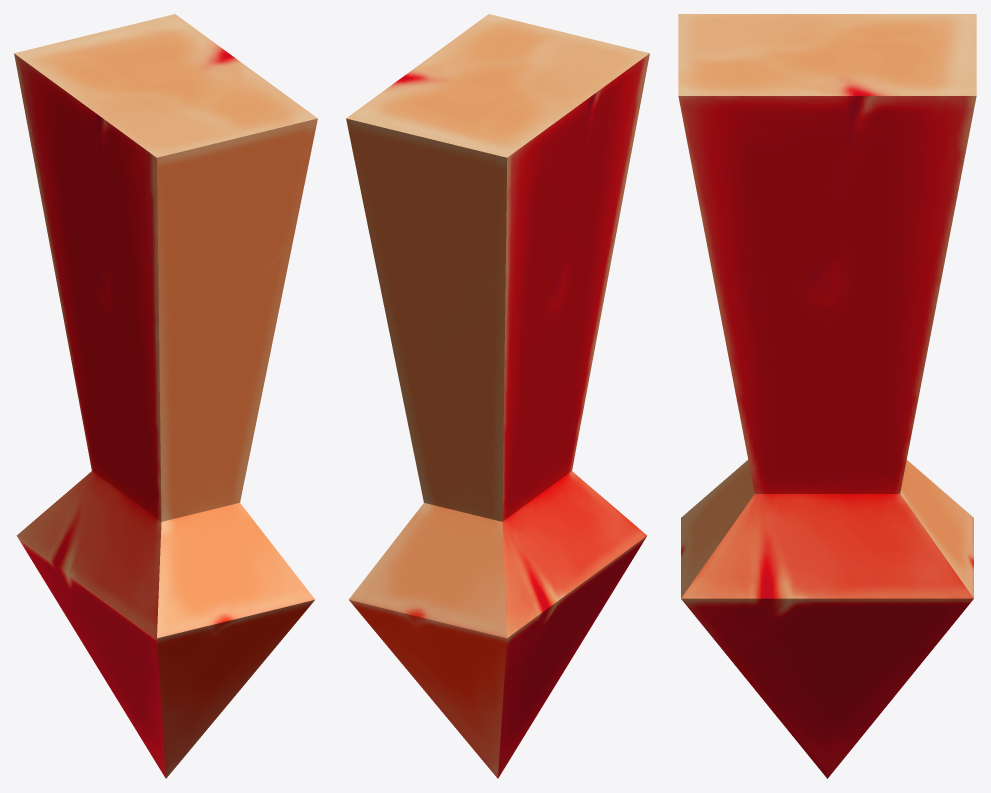
File: jian_tou_001_ty.FBX
3 views of the same model, side by side, from view 1: azimuth 30°, elevation 25°; view 2: azimuth 150°, elevation 25°; view 3: azimuth 270°, elevation 25° (orthographic). The views are drawn at different scales.
Parts seen in each view (by area): view 1: jiantou; view 2: jiantou; view 3: jiantou.
Boxes of the visible parts, x1,y1,x2,y2 form: jiantou: [14, 14, 317, 778]; jiantou: [346, 14, 649, 778]; jiantou: [678, 14, 976, 778].
Bounding box in the file's own units: 0.1313 × 0.5397 × 0.2015.
